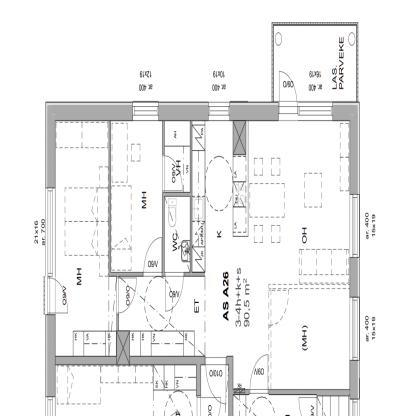bathroom: (163, 190, 192, 276), (162, 123, 192, 192)
door: (203, 355, 228, 410), (278, 67, 300, 126), (142, 236, 166, 284), (114, 273, 140, 317), (42, 278, 70, 317), (248, 352, 271, 399), (164, 270, 188, 314)
perimeter: (47, 105, 359, 393)
window: (42, 185, 58, 280), (347, 189, 362, 266), (297, 98, 336, 127), (347, 292, 362, 366), (129, 95, 163, 127), (205, 98, 232, 128)
